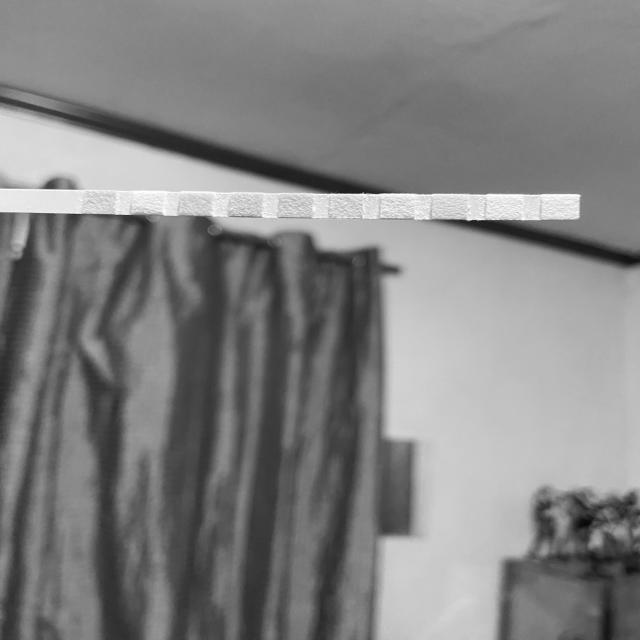Bilirubin: (134, 192, 162, 214)
Blood: (281, 196, 311, 217)
Glucose: (86, 192, 112, 212)
Ketone: (182, 195, 210, 214)
Leukocytes: (544, 196, 577, 217)
Nitrite: (488, 196, 520, 219)
Protein: (382, 196, 412, 217)
SpGravity: (232, 195, 260, 215)
Urobilinogen: (434, 196, 465, 218)
background: (0, 0, 640, 640)
pH: (332, 196, 360, 218)
strip: (0, 189, 580, 220)
